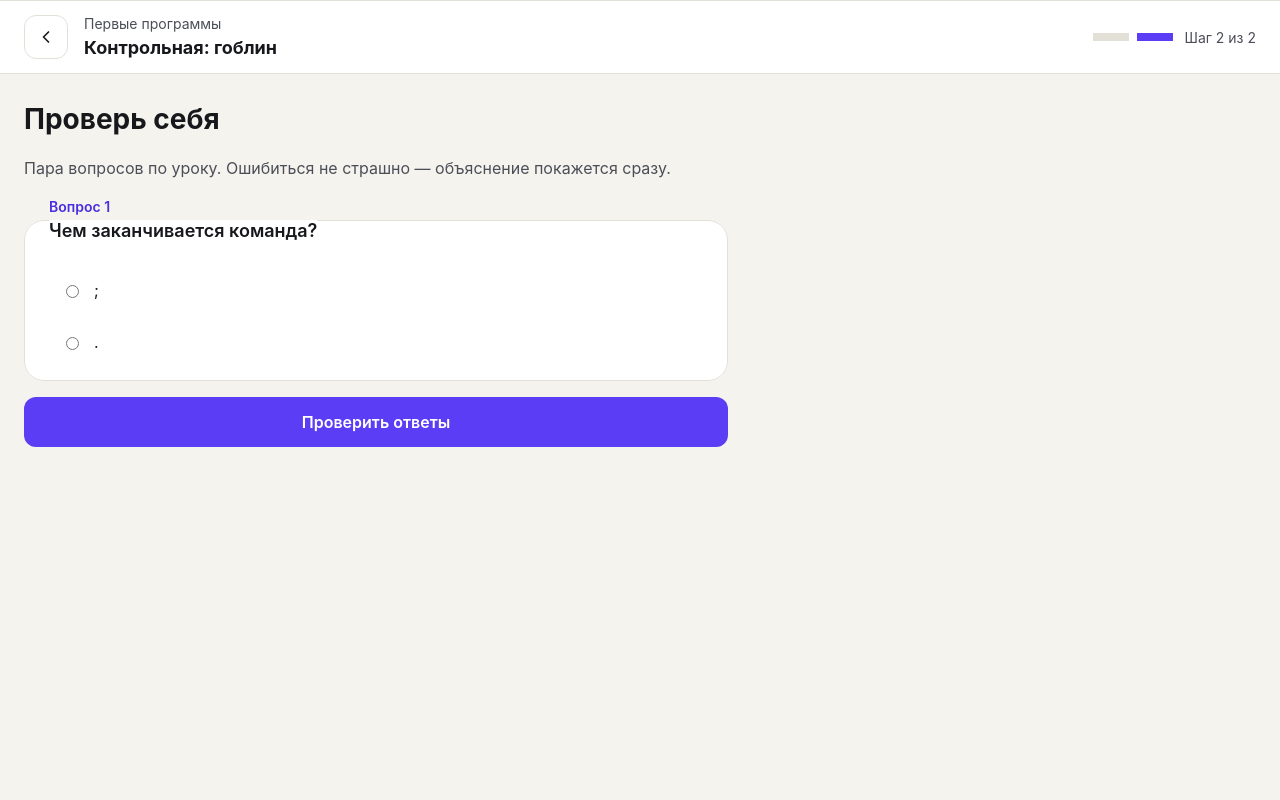
LessonView › не пройдены ни прошлый урок, ни задачи контрольной — обе ссылки
The width and height of the screenshot is (1280, 800).
Click the radio button labelled ";": (72, 292) [66,285,79,298]
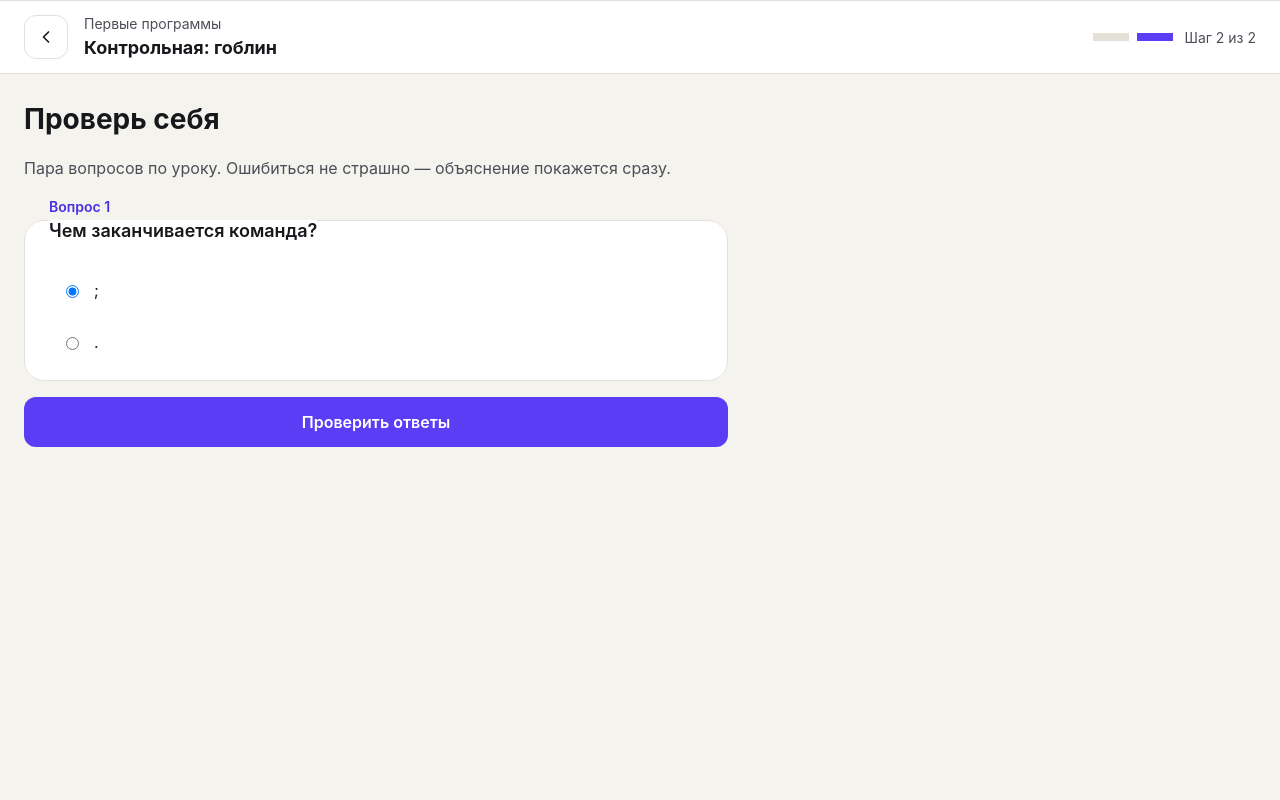
Click the button "Проверить ответы": (376, 422) [24,397,728,447]
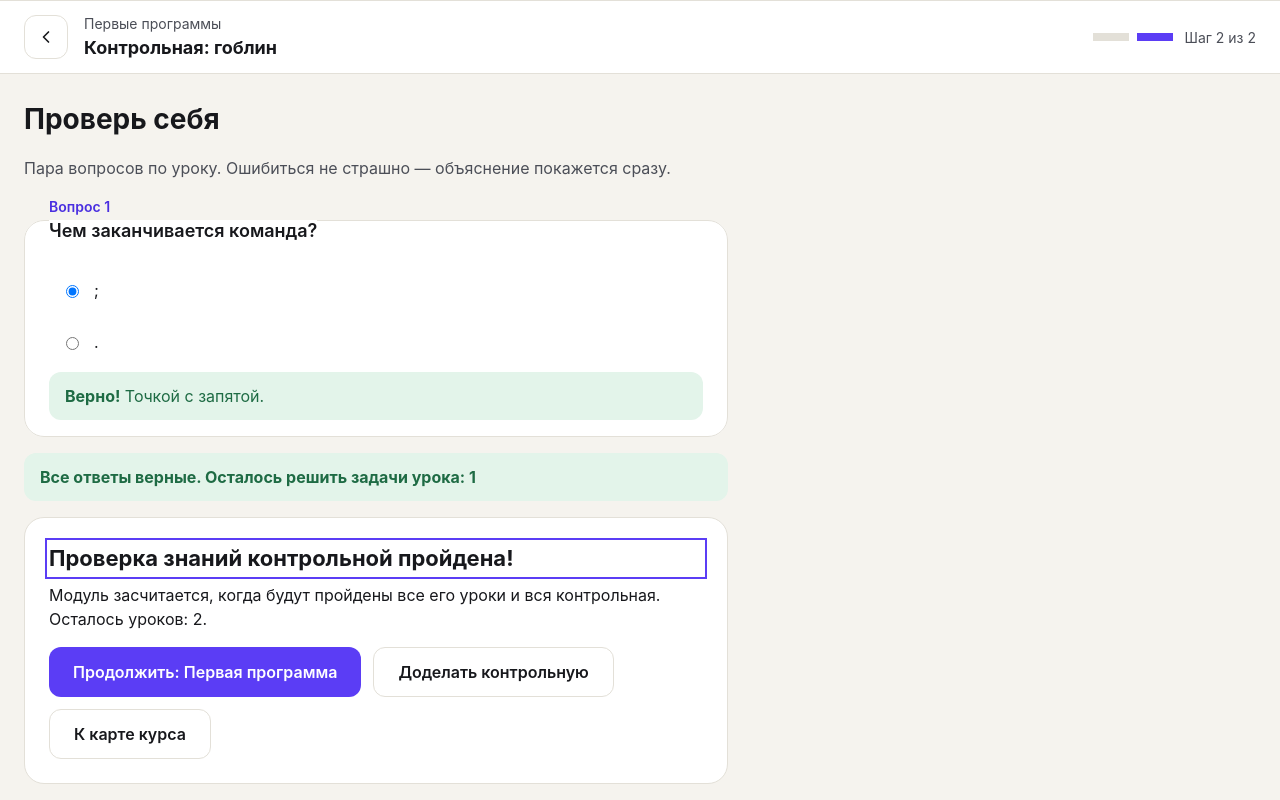
Check: the element that starts with "Проверка знаний контрольной пройдена!" shows "Осталось уроков: 2.", box [49,585,660,629]
